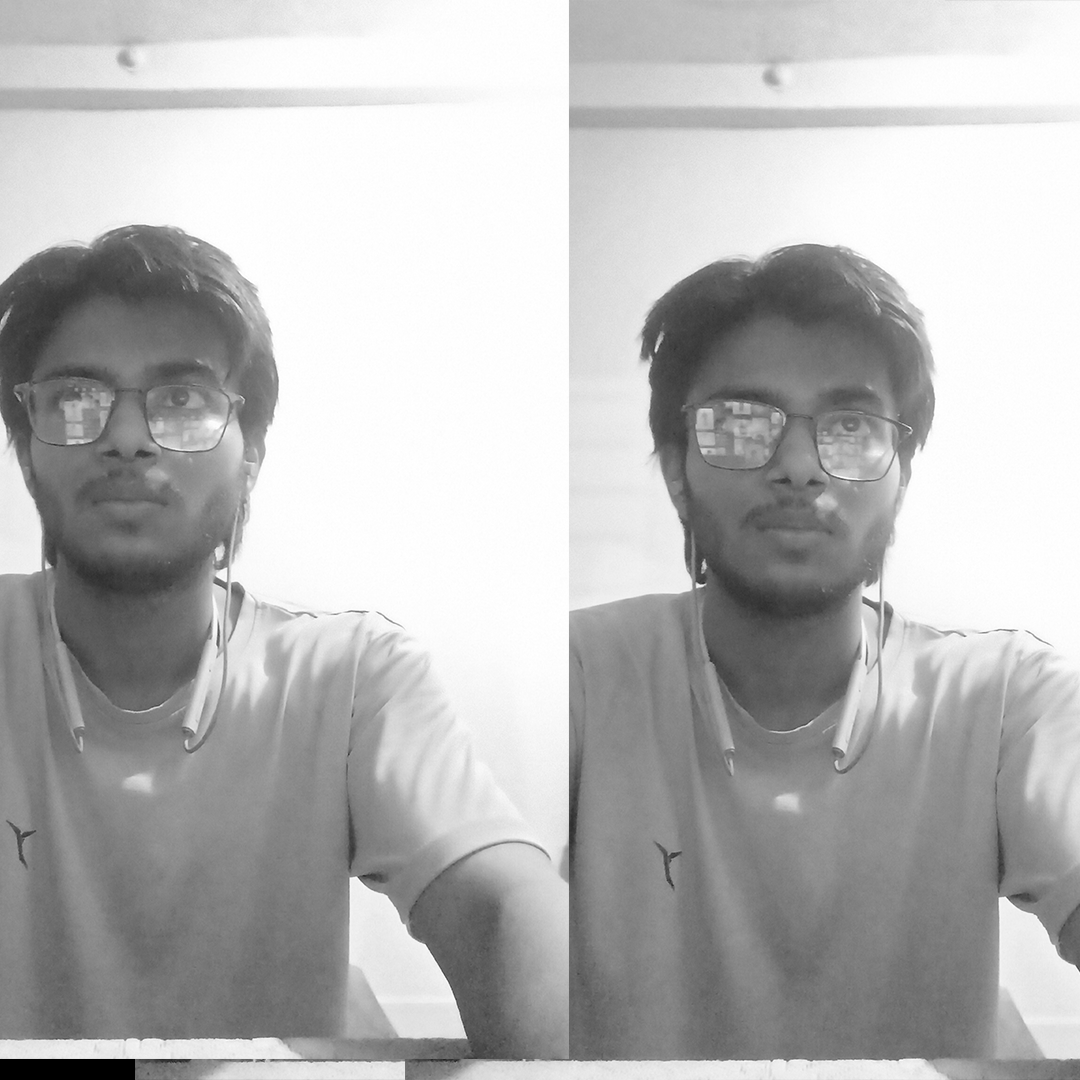Focused: (19, 201, 355, 637), (605, 202, 905, 627)
